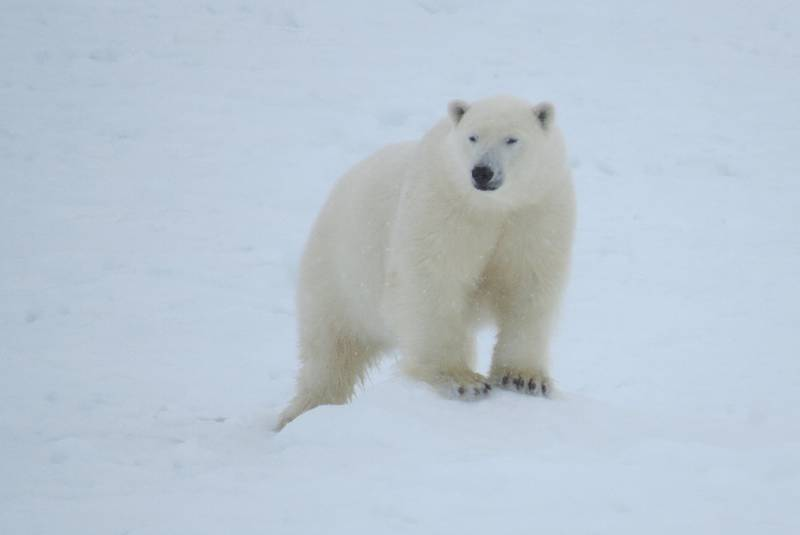Polar Bear: (273, 67, 583, 451)
